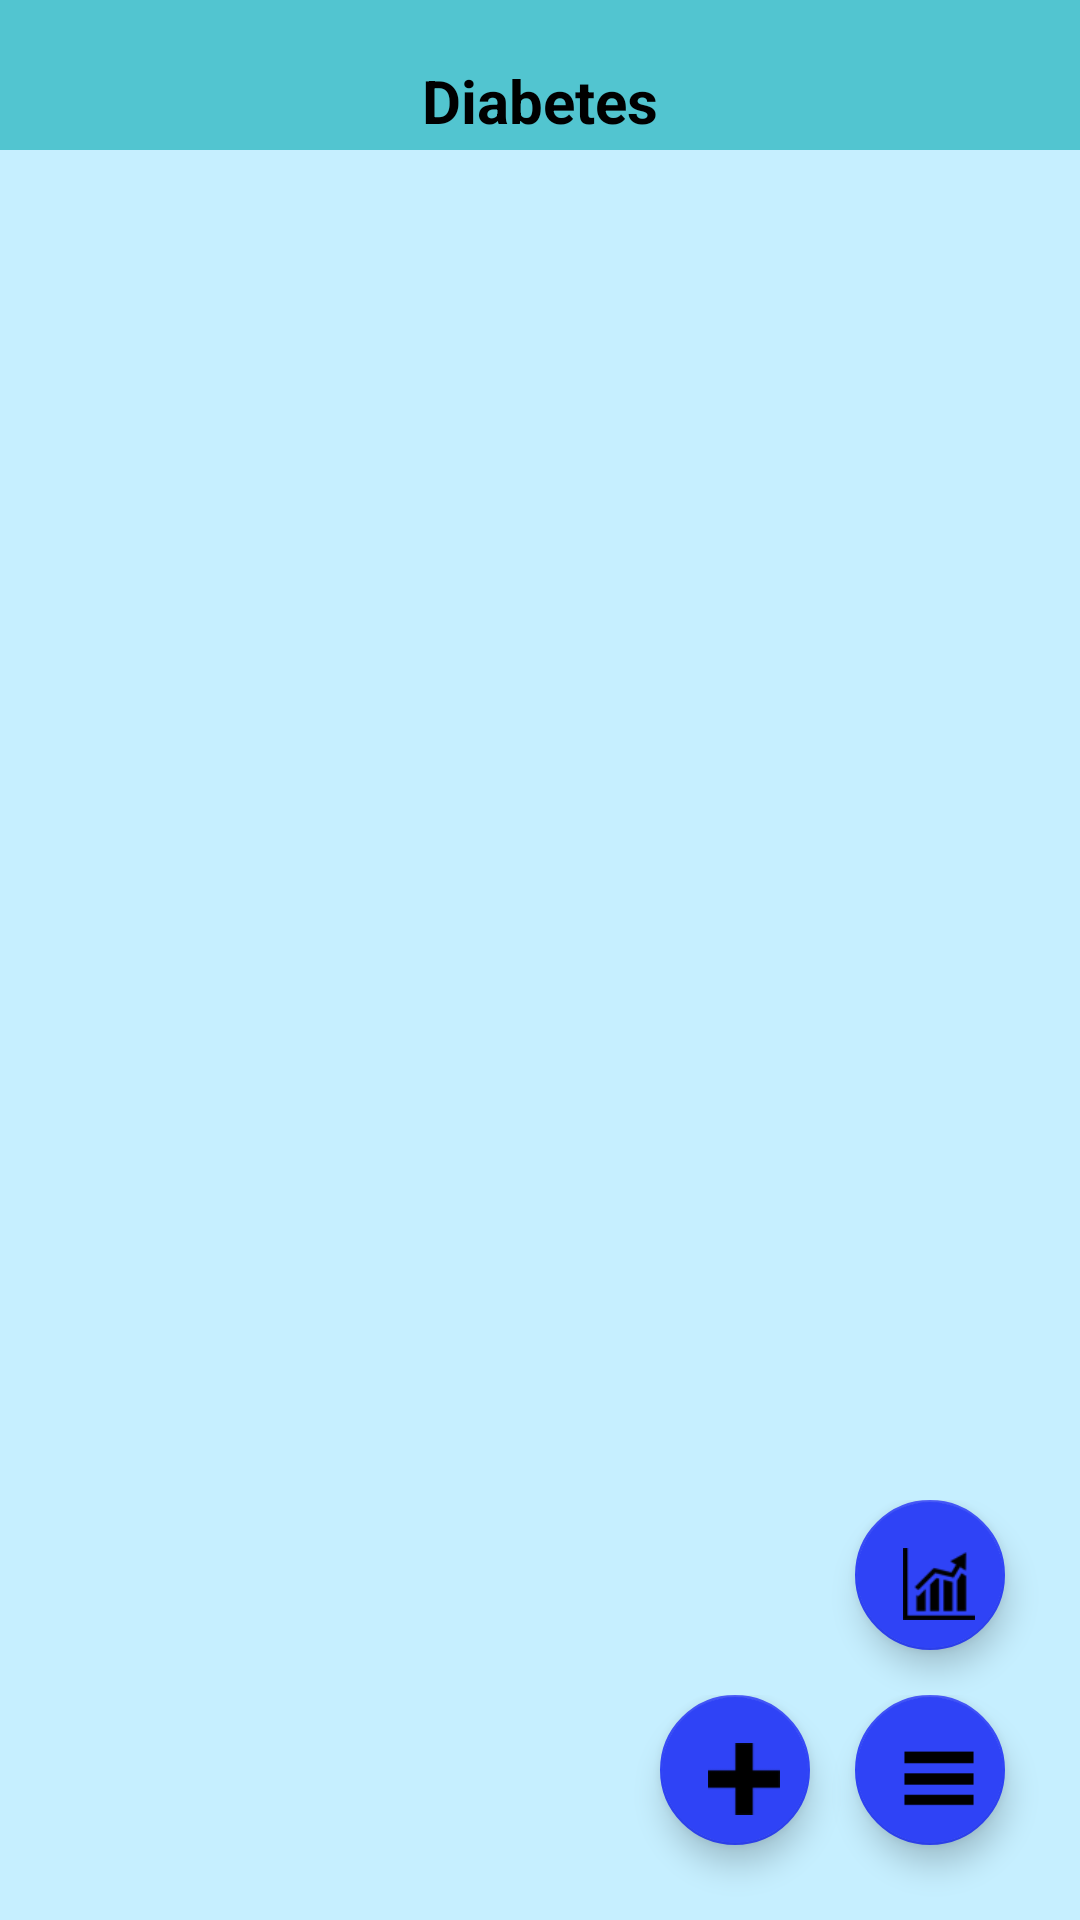

Icon click points for this 1080w x 1920h phone screenshot, format [x,y]:
add: [735,1770]
chart: [930,1575]
menu: [930,1770]
